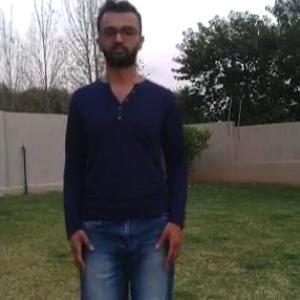follow: (69, 1, 166, 299)
